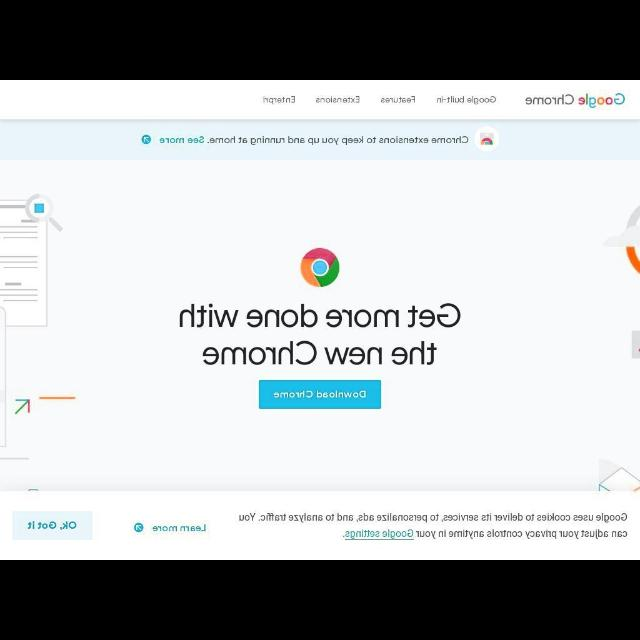backgroundimage: (1, 160, 639, 490)
icon: (134, 522, 144, 534), (140, 136, 152, 144)
image: (576, 91, 626, 109), (474, 126, 498, 152)
link: (342, 528, 414, 542)
multitab: (262, 94, 498, 106)
text: (178, 302, 462, 366), (238, 513, 628, 541), (159, 135, 469, 145), (273, 389, 367, 398), (436, 94, 496, 106), (151, 522, 207, 534), (26, 520, 78, 532), (526, 94, 574, 106), (315, 94, 361, 106), (381, 94, 417, 105), (262, 95, 296, 105)
textbutton: (258, 380, 382, 410), (12, 511, 92, 541)
